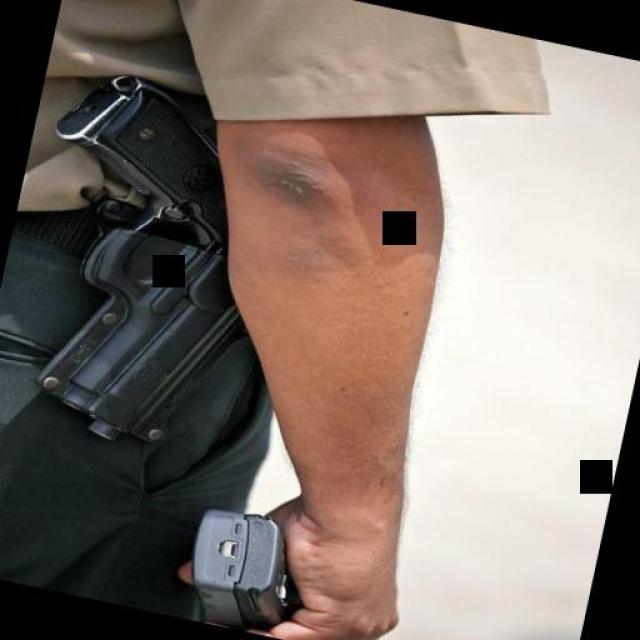gun: (0, 50, 304, 481)
